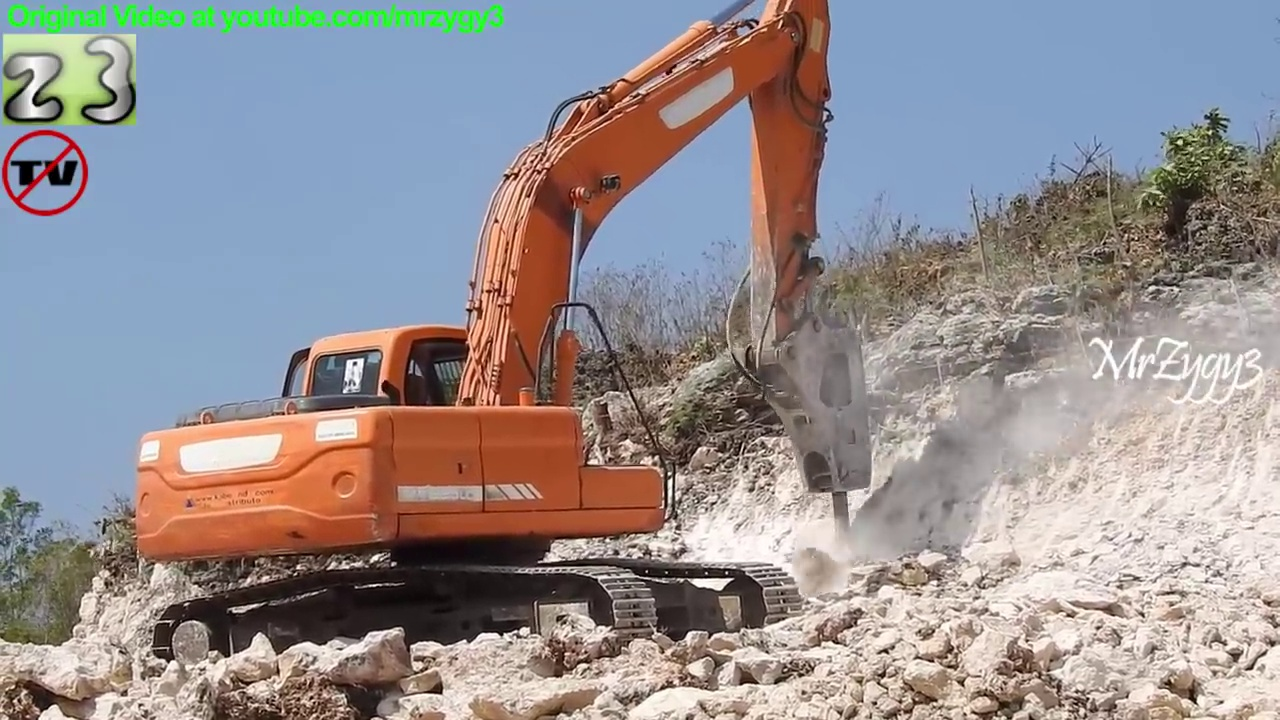excavator breaker: (126, 1, 884, 679)
